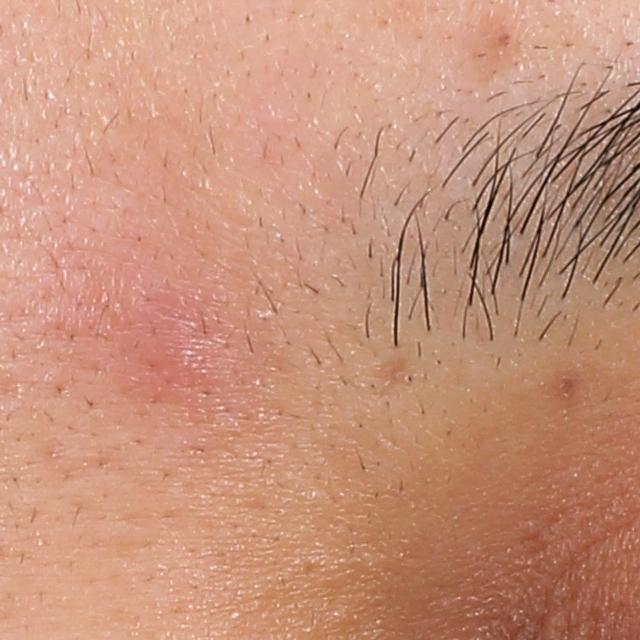atrophic_scar: (375, 355, 410, 395)
